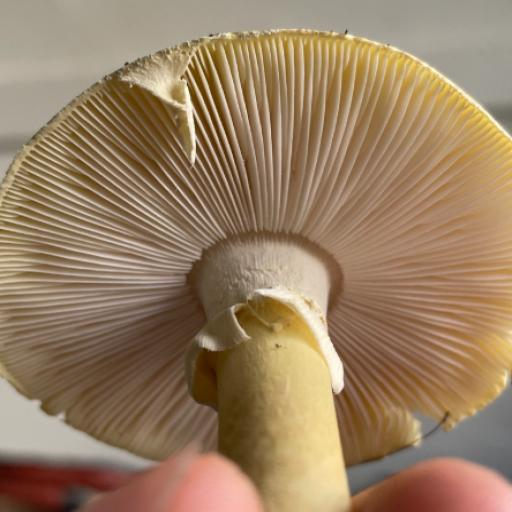Death Cap: (0, 33, 511, 511)
